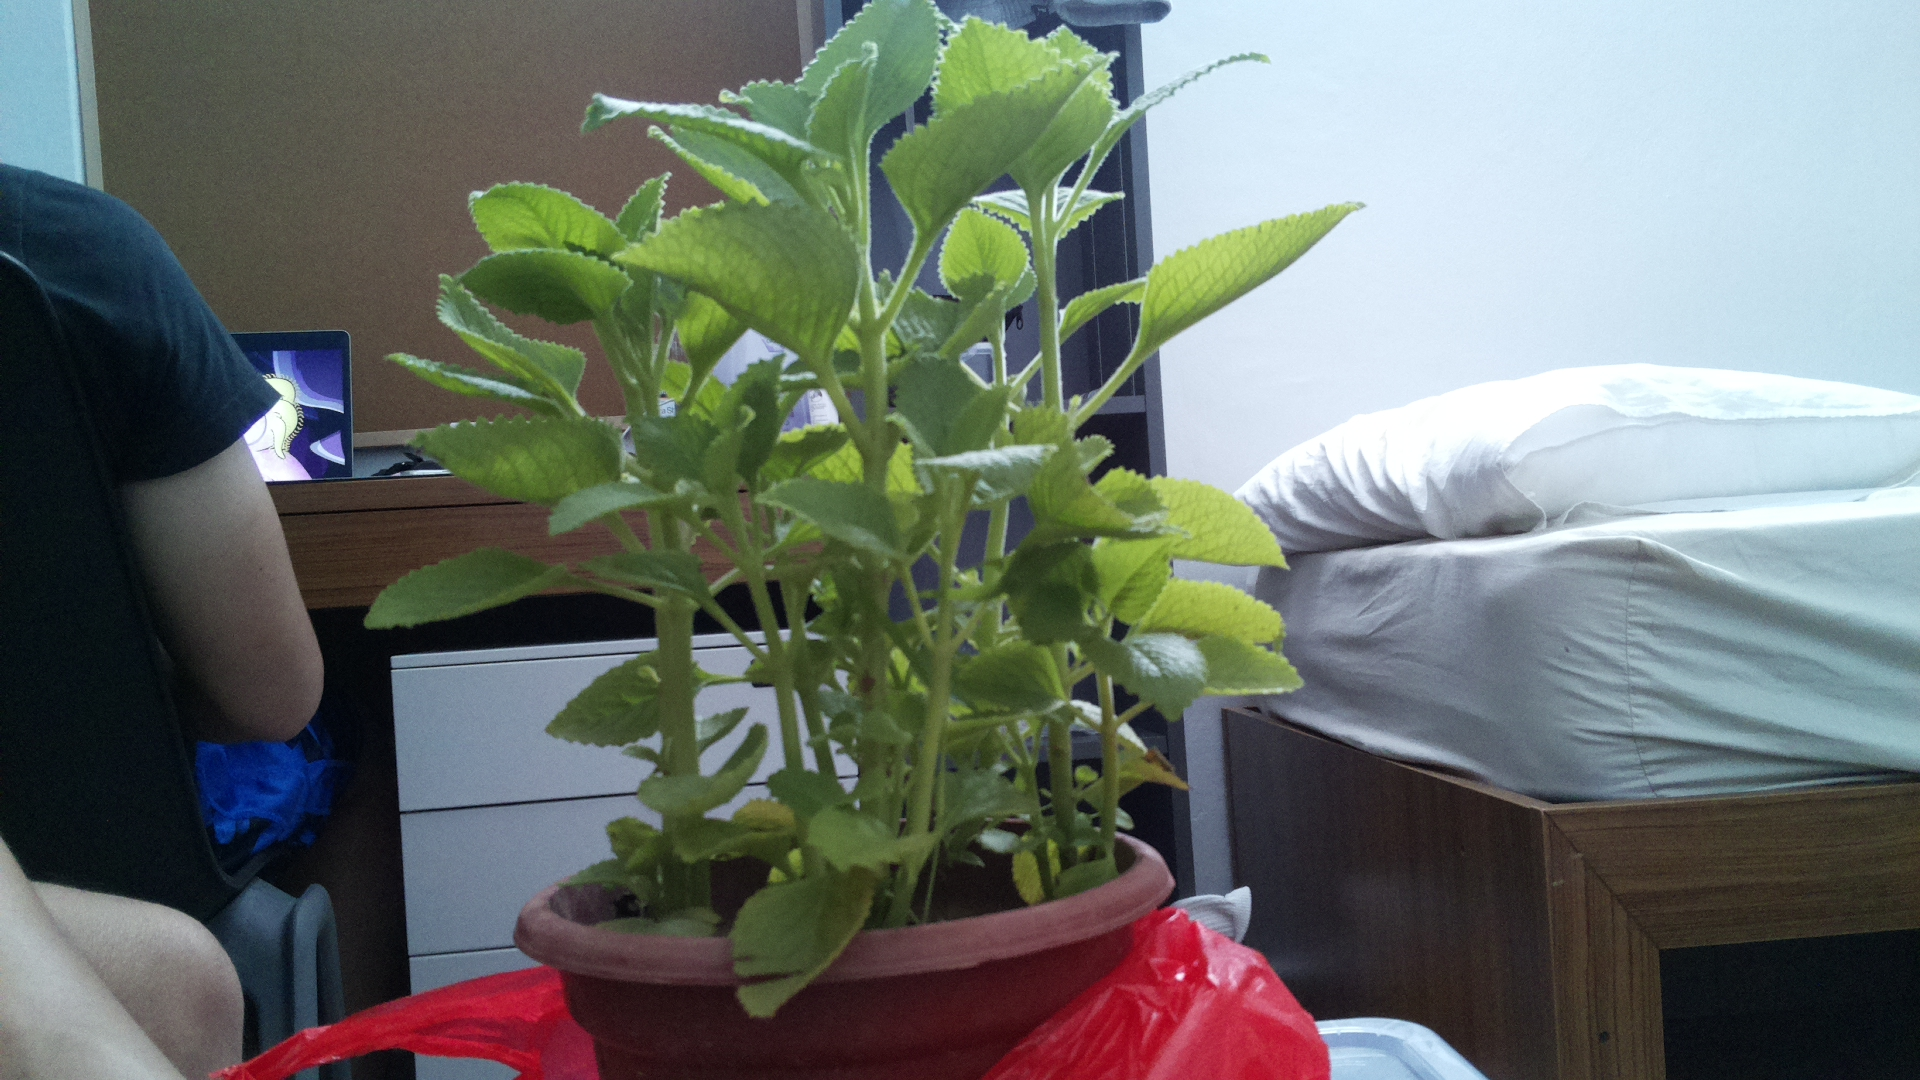leaf: (621, 196, 858, 375), (880, 54, 1120, 229), (1124, 199, 1367, 353), (342, 542, 576, 650), (584, 80, 812, 186), (400, 409, 624, 512), (728, 866, 866, 1014), (549, 636, 692, 761), (454, 239, 632, 334), (765, 477, 943, 566), (1147, 462, 1291, 568), (807, 7, 945, 115), (1035, 443, 1159, 554), (644, 721, 771, 814), (1175, 622, 1324, 702), (375, 351, 564, 405), (1093, 633, 1208, 717), (938, 206, 1029, 307), (555, 469, 684, 539), (804, 803, 943, 866), (947, 642, 1079, 705), (916, 436, 1054, 493), (1102, 531, 1176, 626)
